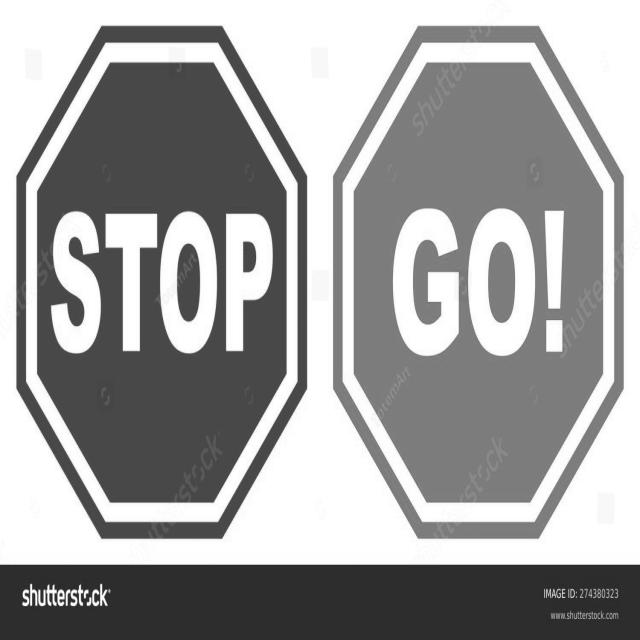stop: (14, 18, 309, 543)
